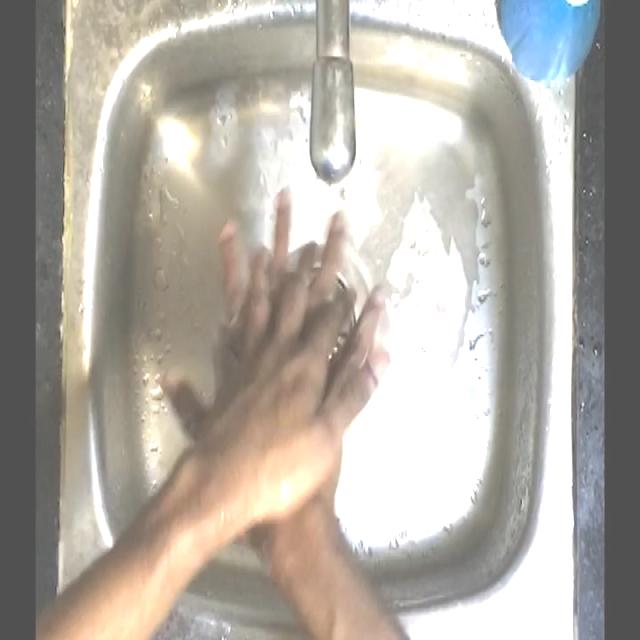step_2: (179, 174, 406, 528)
